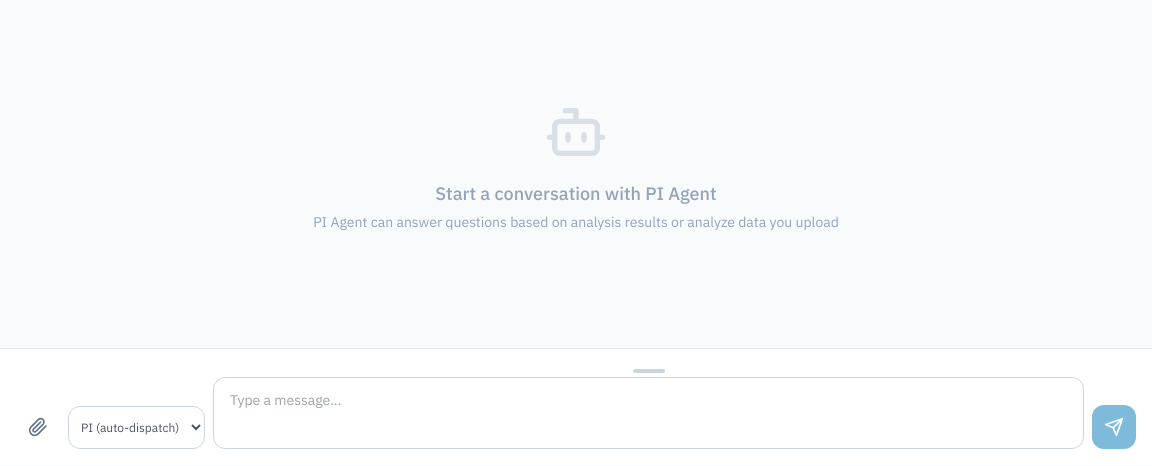
Test: ChatPanel history response ownership › retains the current request optimistic message when initial history fails
In the text box with placeholder "Type a message...": (648, 413) [213,377,1084,449], type "current optimistic request"
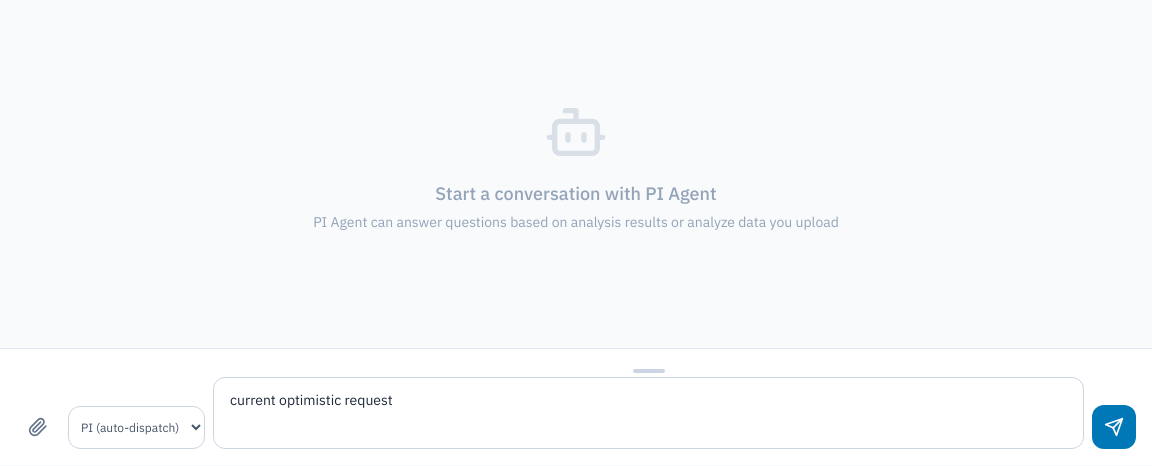
Click the 2nd button: click(1114, 427) [1092,405,1136,449]
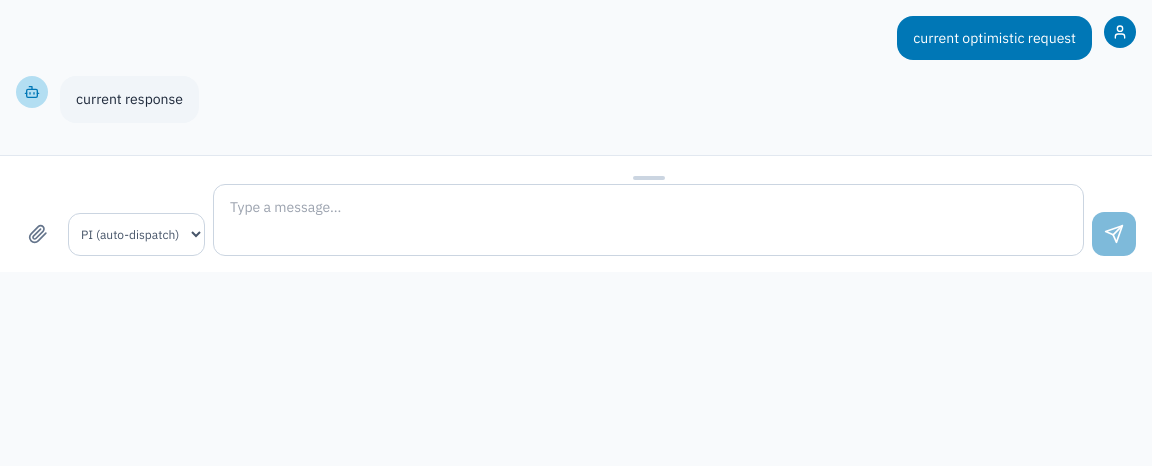
Now the text "current optimistic request" is shown, box [913,28,1076,48]
